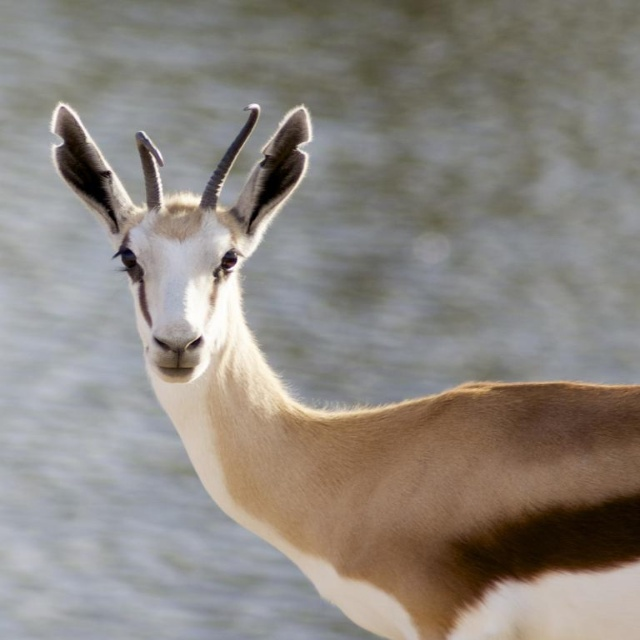Deer: (57, 104, 639, 639)
